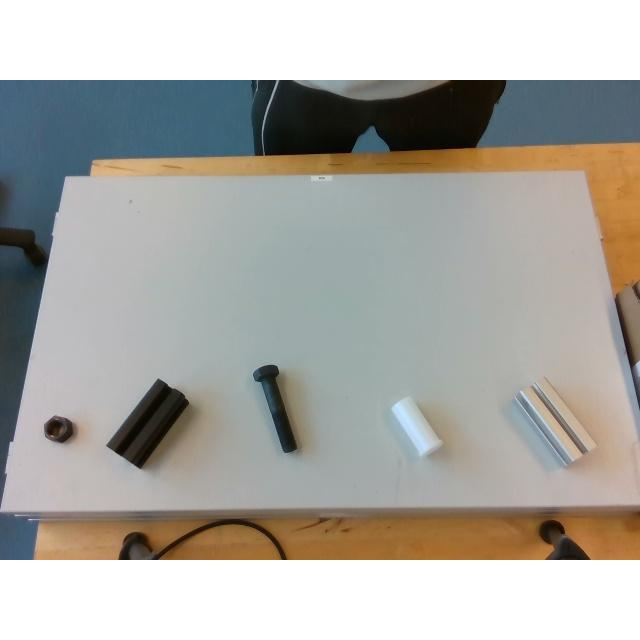M20: (44, 416, 72, 442)
M20_100: (251, 363, 297, 452)
S40_40_B: (107, 379, 187, 467)
S40_40_G: (514, 376, 596, 464)
Spacer: (391, 396, 442, 456)
